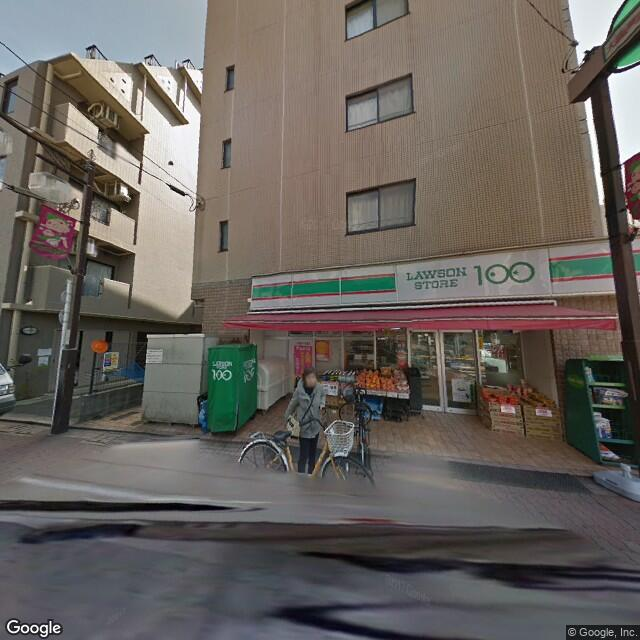lawson: (252, 230, 613, 314)
